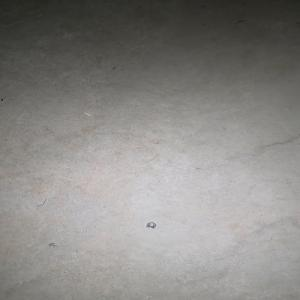Nut: (146, 222, 157, 229)
